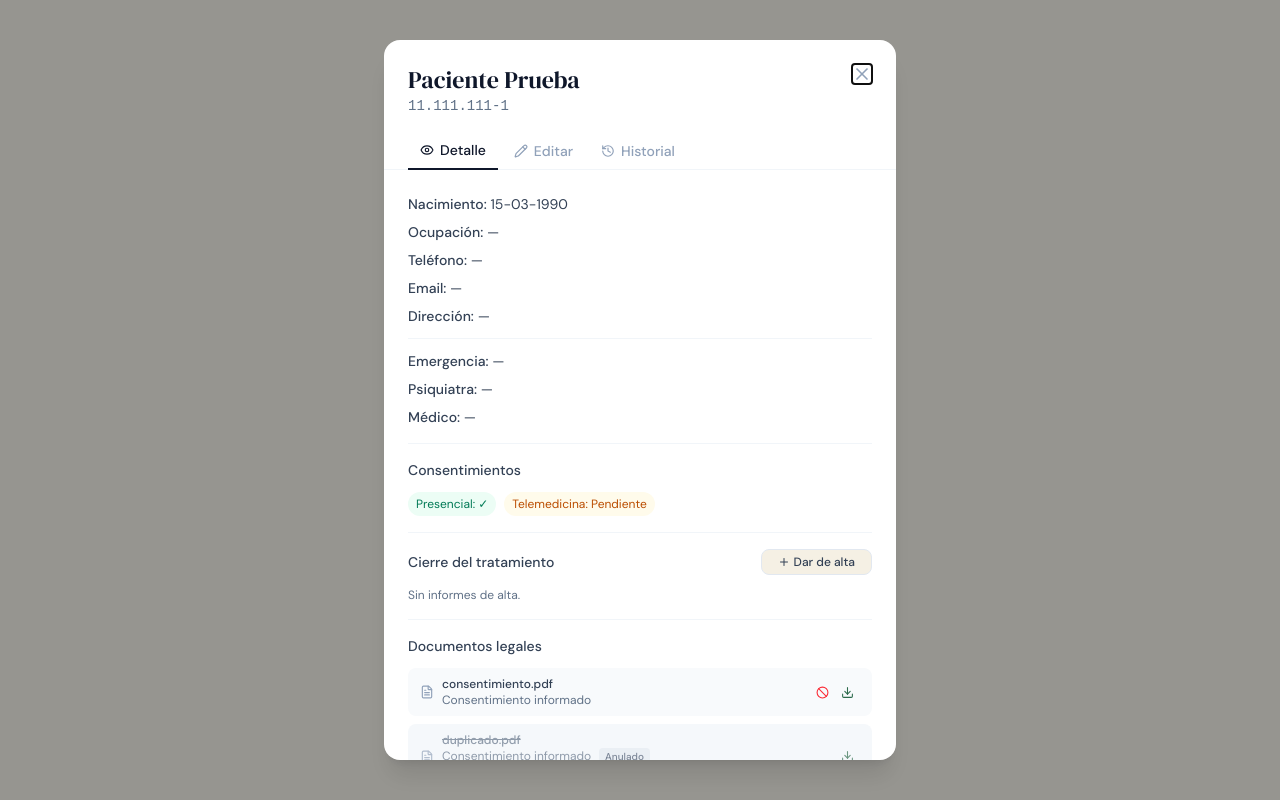
Test: PatientModal — anular documentos legales (#270) › muestra el error del servidor y deja el diálogo abierto
The width and height of the screenshot is (1280, 800).
Click the button named "Anular consentimiento.pdf": [822, 692] box x1=810 y1=680 x2=835 y2=704
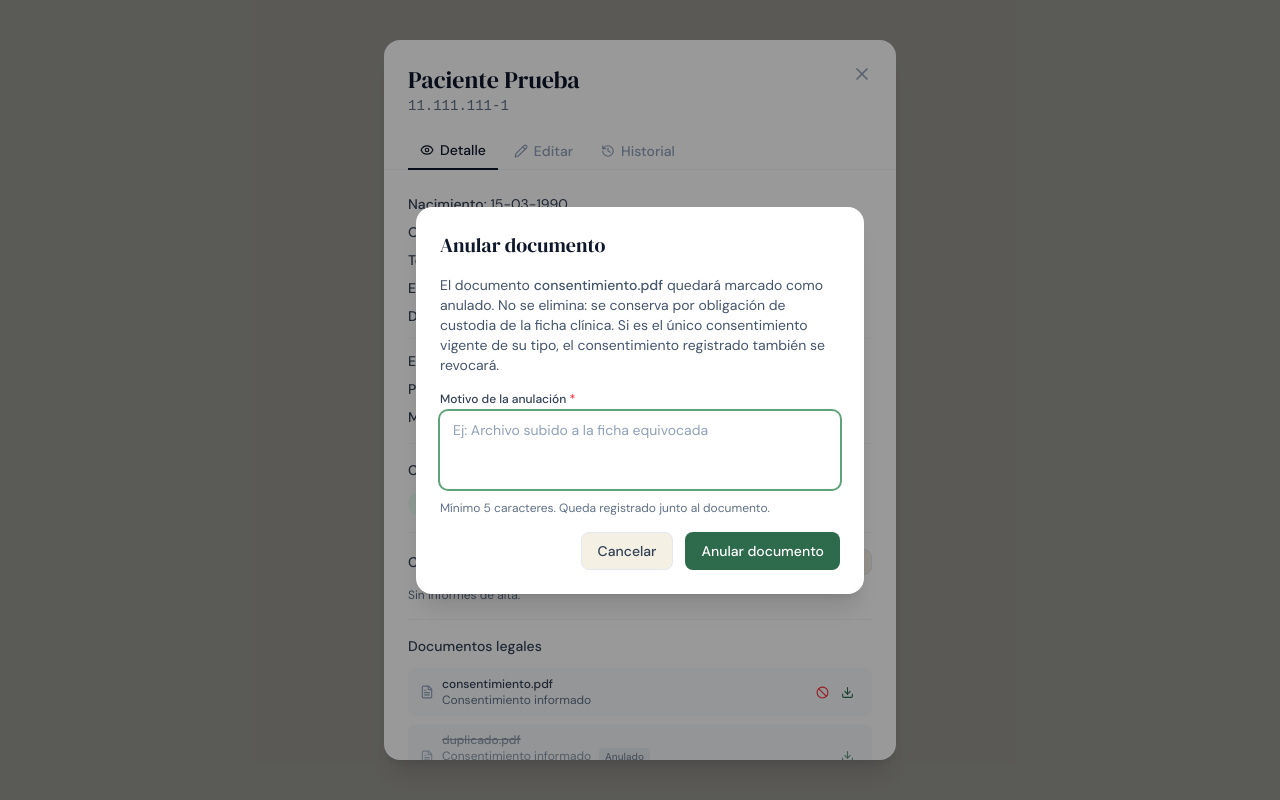
In the text box labelled "Motivo de la anulación *": [640, 450] box x1=440 y1=410 x2=840 y2=488, type "Archivo equivocado"
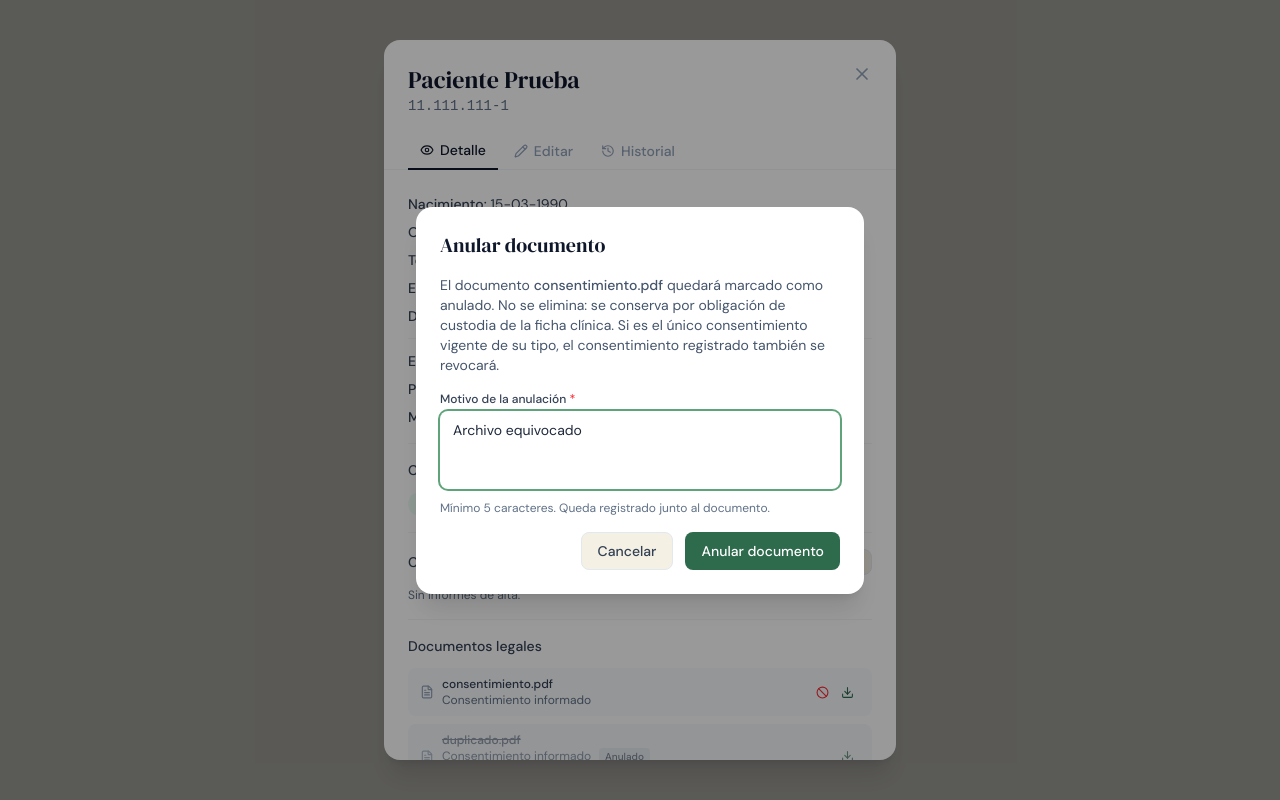
Click the button "Anular documento": [763, 550] box x1=686 y1=532 x2=840 y2=570
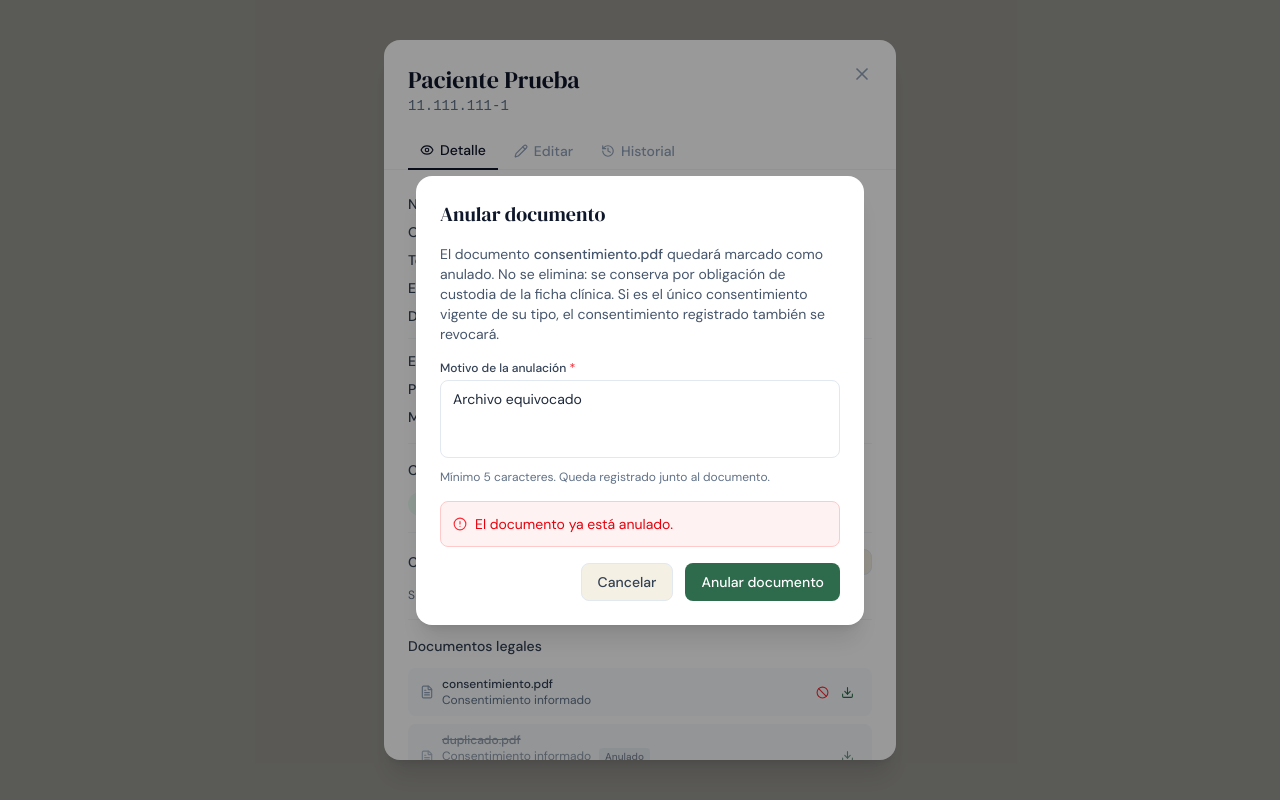
Check: the heading "Anular documento" is shown, box x1=440 y1=200 x2=606 y2=228
Check: the text "El documento ya está anulado." is shown, box x1=475 y1=514 x2=673 y2=534
